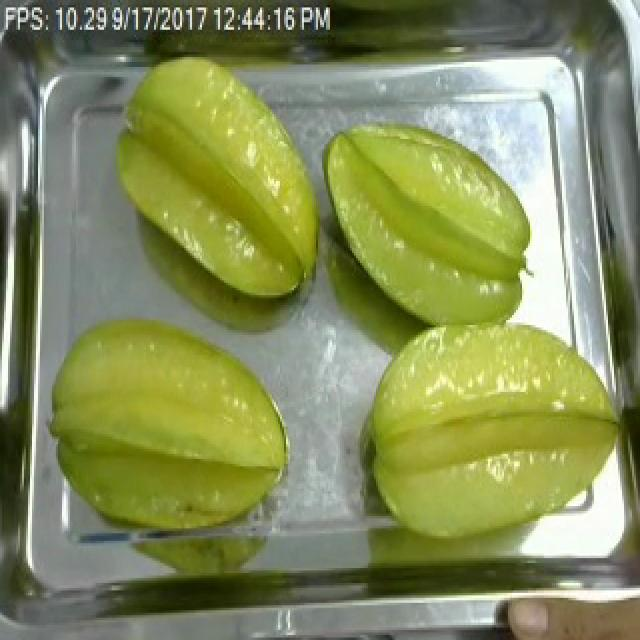fruit: (352, 300, 638, 568), (40, 303, 300, 548), (102, 47, 326, 310), (316, 107, 542, 342)
